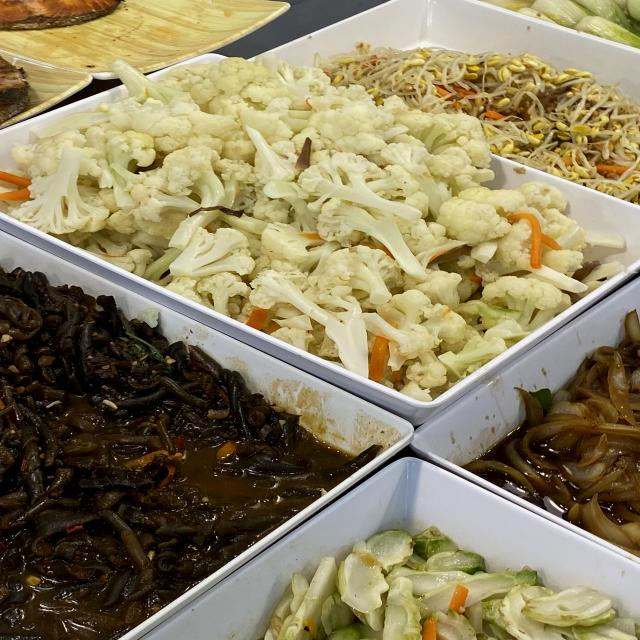cauliflower: (105, 118, 452, 260)
